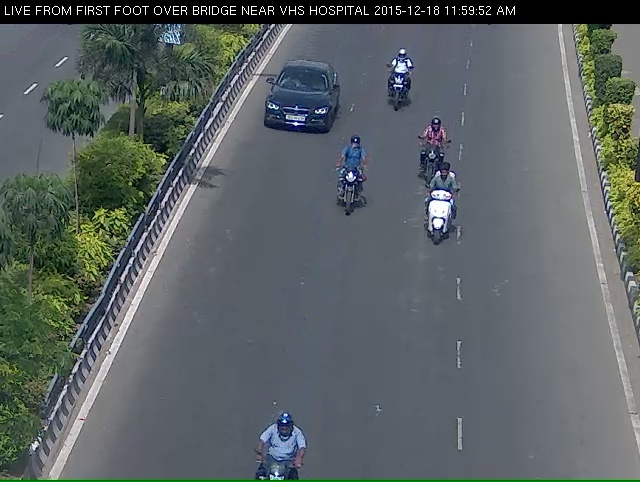Car: (254, 76, 334, 147)
Person: (421, 182, 455, 274), (329, 155, 361, 230), (378, 58, 406, 124), (415, 136, 436, 203)
